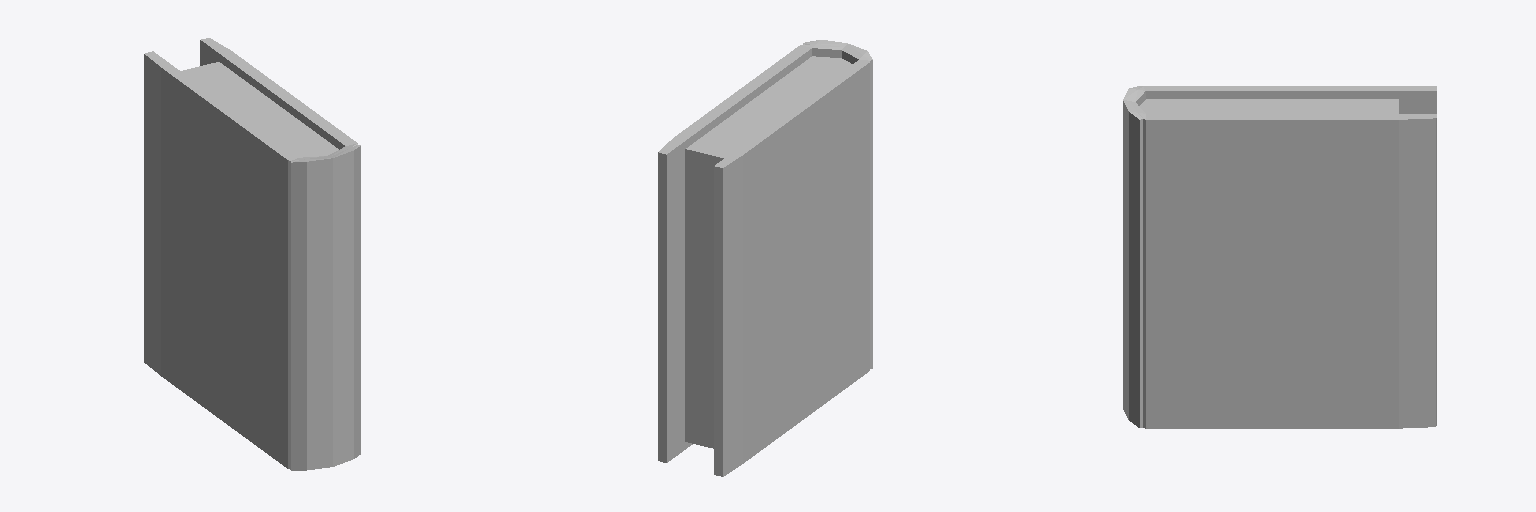
The model's file is bookpurple.obj.
The picture shows the model from 3 angles: view 1: azimuth 30°, elevation 25°; view 2: azimuth 150°, elevation 25°; view 3: azimuth 270°, elevation 25°; orthographic projection.
Visible parts, largest first — view 1: biggerbook:pCube1; view 2: biggerbook:pCube1; view 3: biggerbook:pCube1.
Boxes of the visible parts, <box> form: biggerbook:pCube1: <box>144,38,360,470</box>; biggerbook:pCube1: <box>658,40,872,476</box>; biggerbook:pCube1: <box>1123,86,1436,428</box>.
Size of the model in its own units: 0.0995 by 0.4228 by 0.3869.